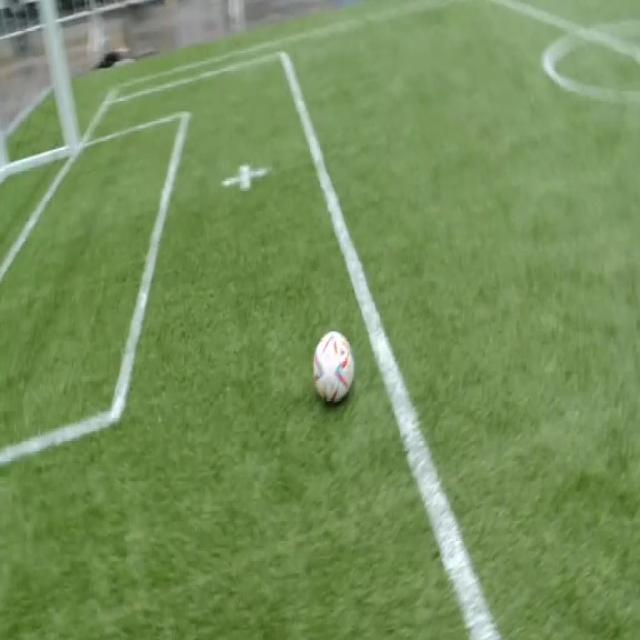ball: (312, 330, 354, 403)
goalpost: (58, 98, 86, 165)
